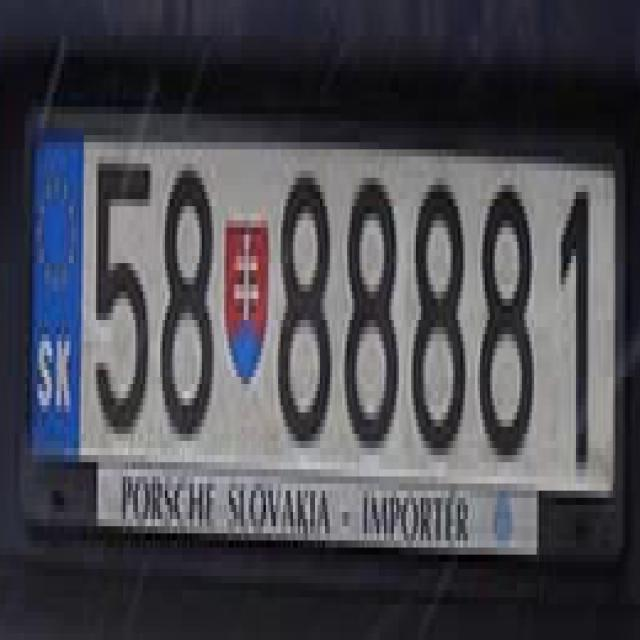EU: (29, 127, 624, 502)
Slovaquie: (29, 133, 83, 462)
